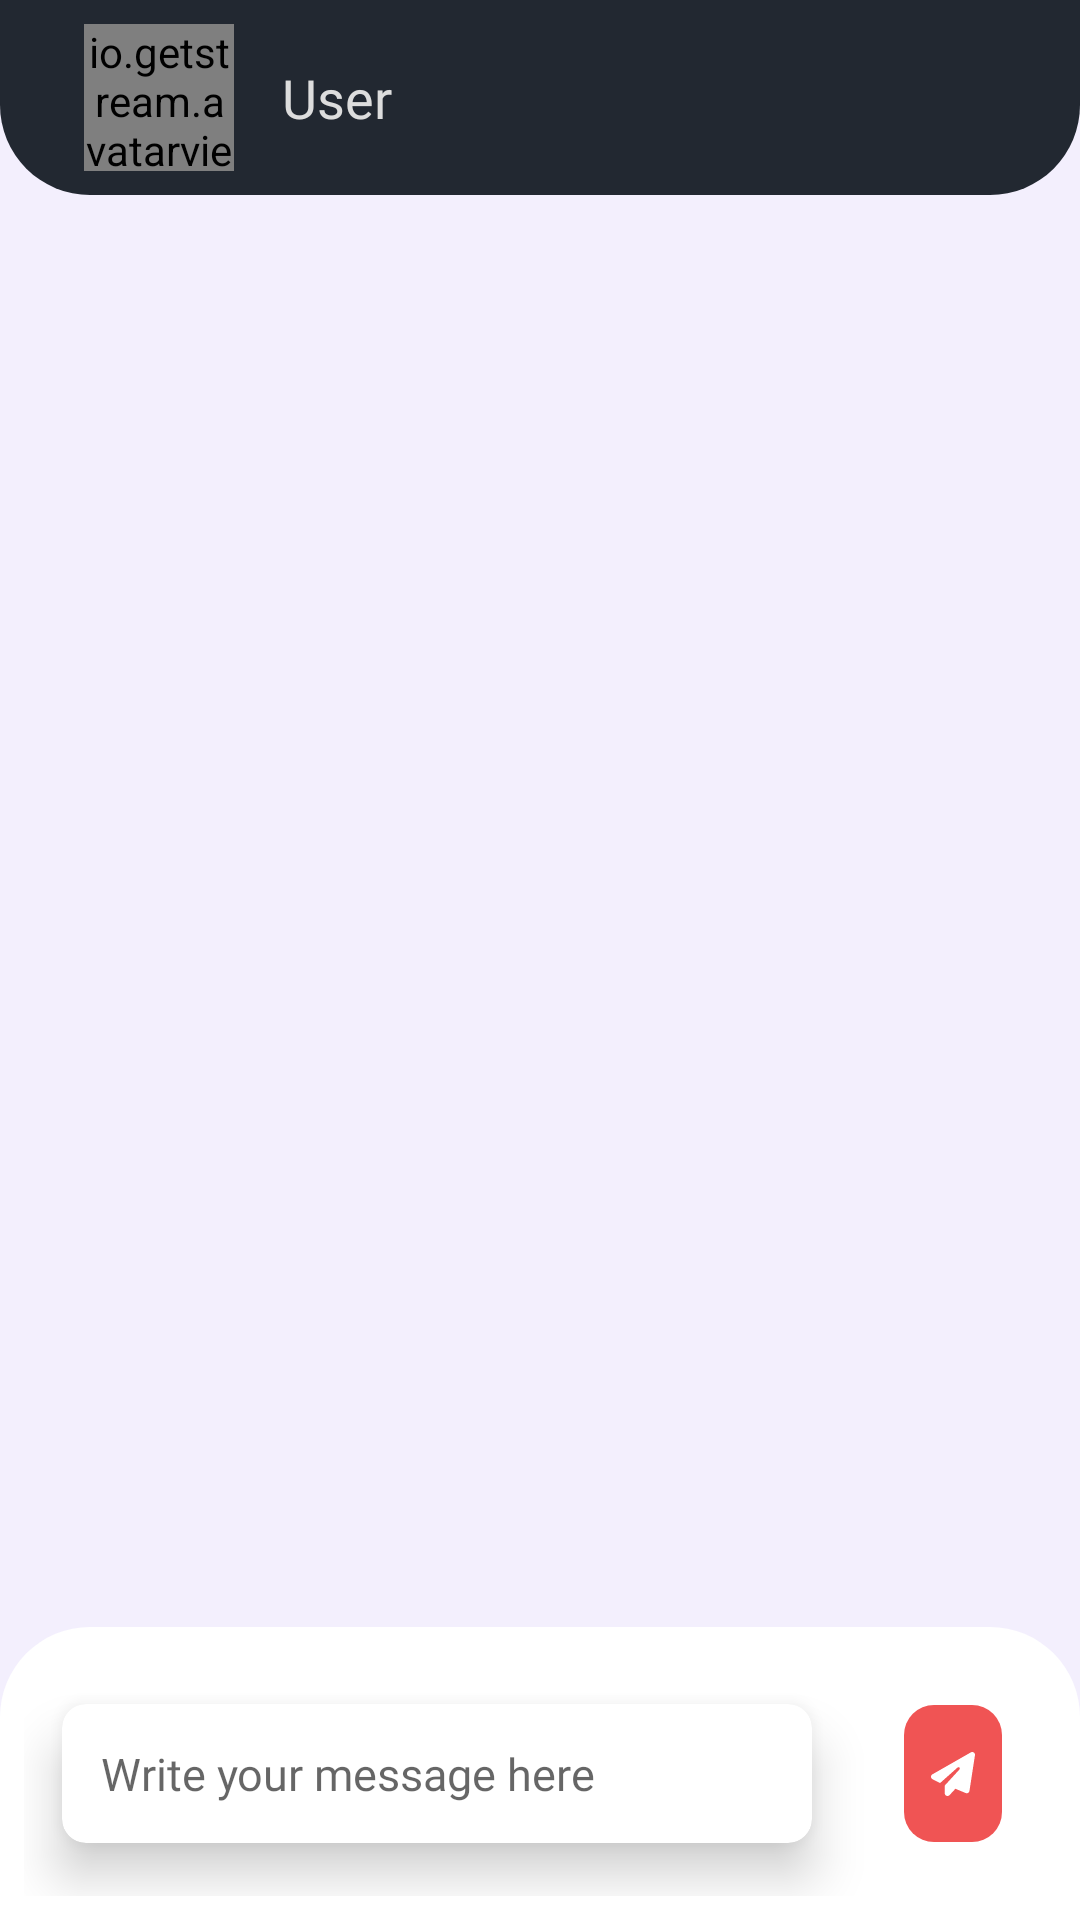

Named icons in this screenshot (1080×1920) and their bounding boxes, (x1,y1,x2,y2):
Send button: (904,1705,1002,1842)
